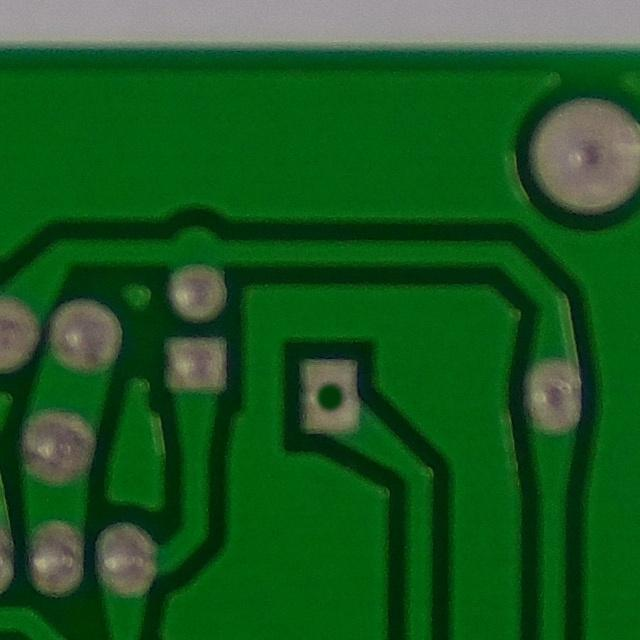missing_hole: (291, 357, 367, 439)
